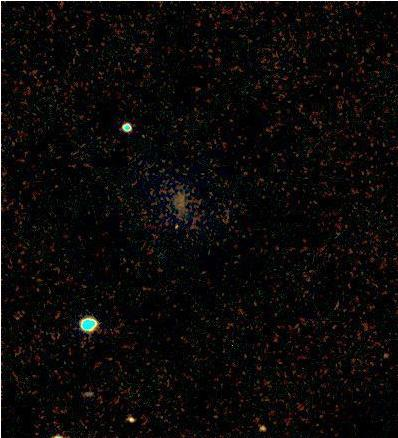star: (164, 209, 194, 239)
